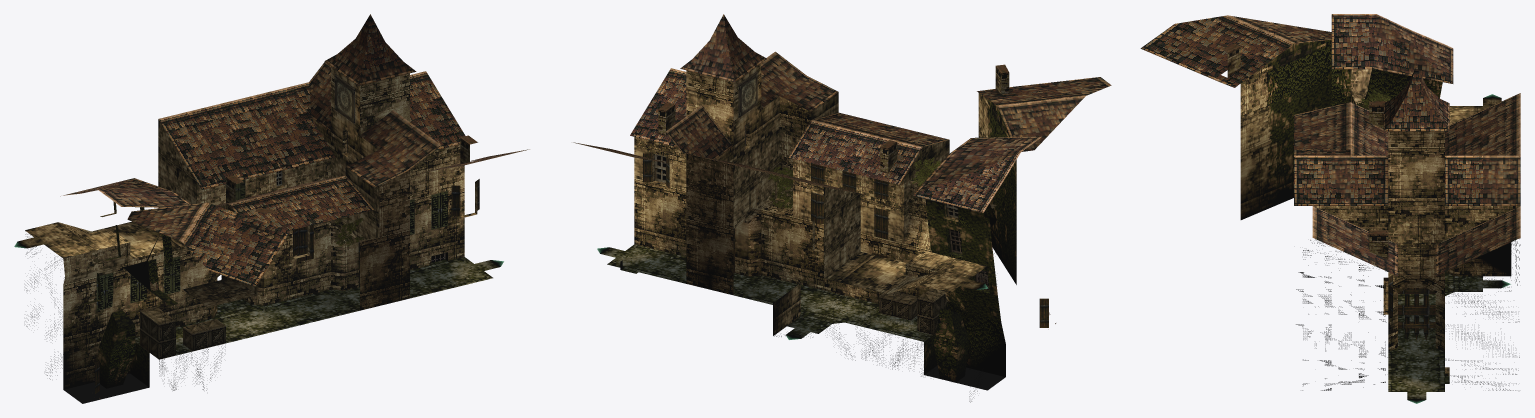
File: MAP156.gltf
3 views of the same model, side by side, from view 1: azimuth 30°, elevation 25°; view 2: azimuth 150°, elevation 25°; view 3: azimuth 270°, elevation 25° (orthographic). The views are drawn at different scales.
Size of the model in its own units: 346 by 230 by 258.
99 materials, 99 textured.
